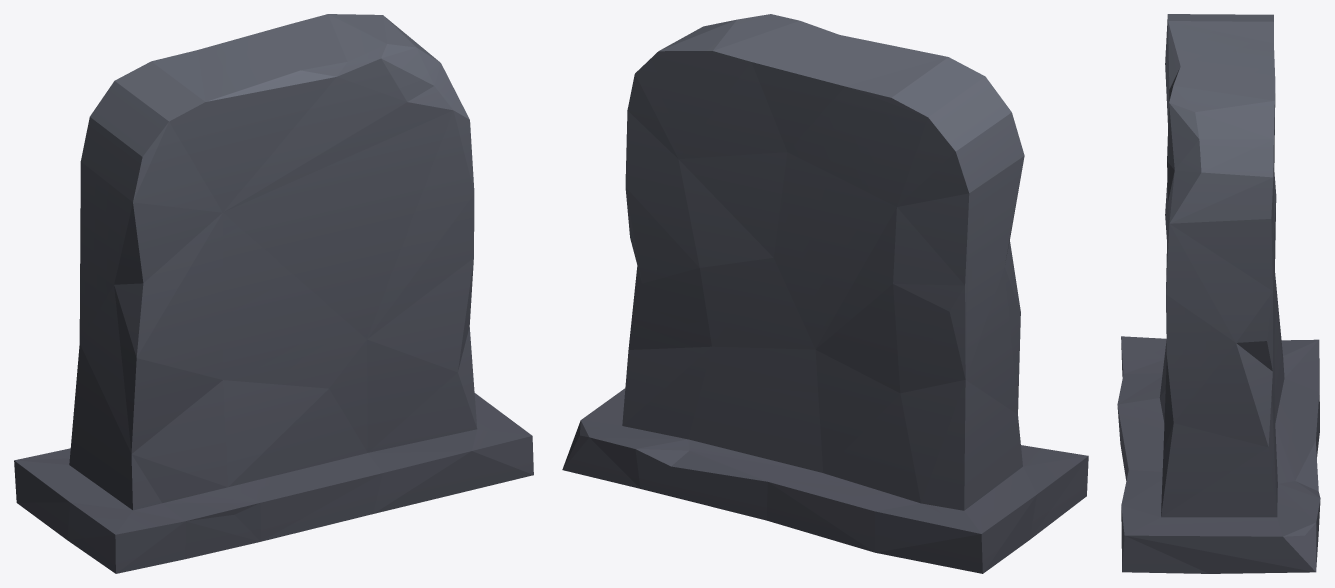
Rendered from Gravestone_01.fbx.
The picture shows the model from 3 angles, left to right: view 1: azimuth 30°, elevation 25°; view 2: azimuth 150°, elevation 25°; view 3: azimuth 270°, elevation 25°; orthographic projection. The views are drawn at different scales.
Visible parts, largest first — view 1: Gravestone_01; view 2: Gravestone_01; view 3: Gravestone_01.
Boxes of the visible parts, x1,y1,x2,y2 form: Gravestone_01: [14, 14, 533, 573]; Gravestone_01: [562, 14, 1088, 573]; Gravestone_01: [1117, 14, 1320, 573].
Size of the model in its own units: 0.9108 by 0.9069 by 0.3988.
